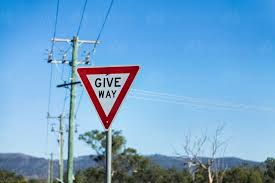giveway: (75, 64, 142, 132)
